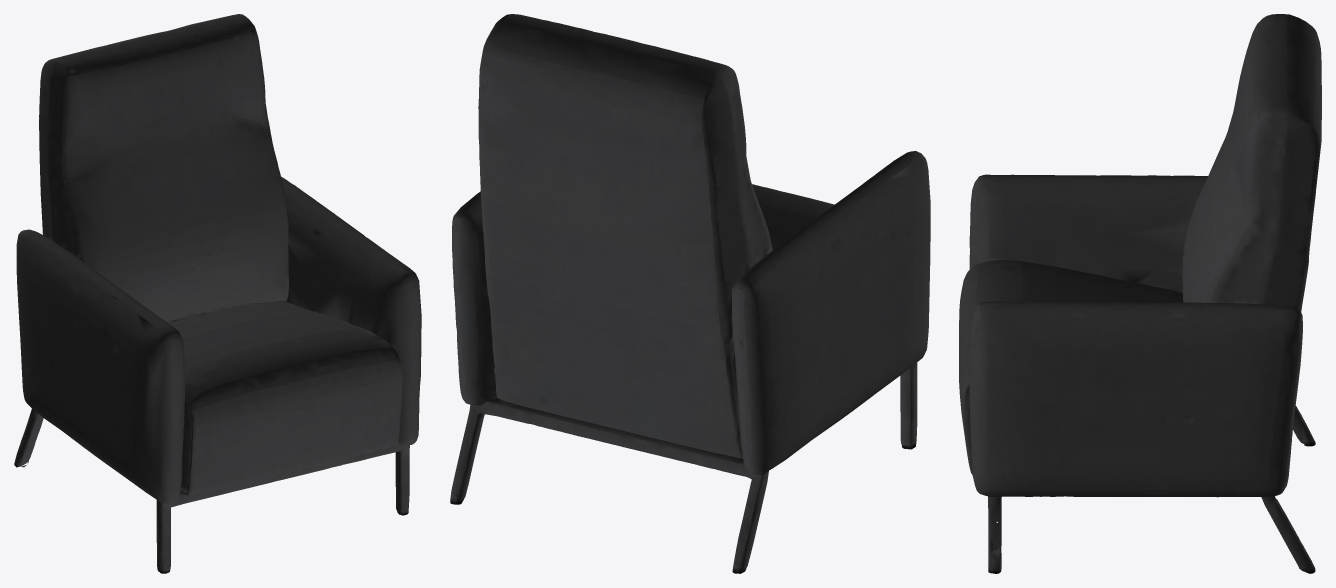
Rendered from recliner.glb.
The picture shows the model from 3 angles, left to right: view 1: azimuth 30°, elevation 25°; view 2: azimuth 150°, elevation 25°; view 3: azimuth 270°, elevation 25°; orthographic projection. The views are drawn at different scales.
Visible parts, largest first — view 1: geometry_0; view 2: geometry_0; view 3: geometry_0.
Part boxes in pixels (left/top/right/bottom): geometry_0: left=14, top=14, right=421, bottom=573; geometry_0: left=450, top=14, right=930, bottom=573; geometry_0: left=959, top=14, right=1321, bottom=573.
Bounding box in the file's own units: 0.7036 × 1 × 0.7388.
1 material, 1 textured.
